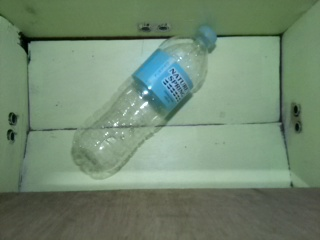bottle: (71, 24, 217, 178)
